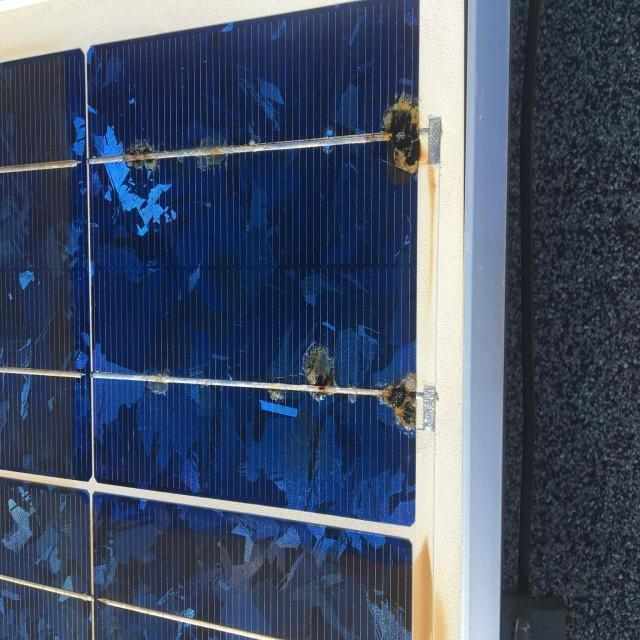Anomaly Solar Panel: (0, 0, 421, 638)
Structural Damage: (371, 369, 436, 440), (380, 96, 423, 174), (296, 342, 338, 400), (188, 134, 232, 173), (138, 364, 176, 400), (123, 139, 153, 171), (260, 380, 290, 408), (316, 129, 338, 154), (346, 386, 360, 406)
